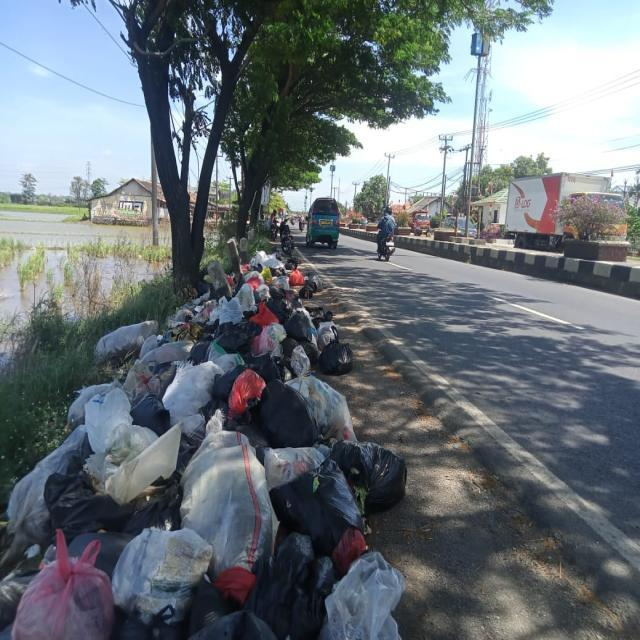garbage: (19, 243, 348, 640)
